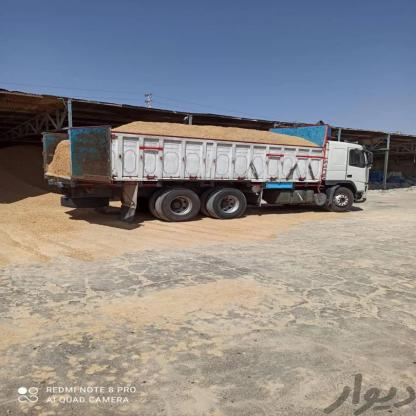Truck: (57, 116, 367, 220)
